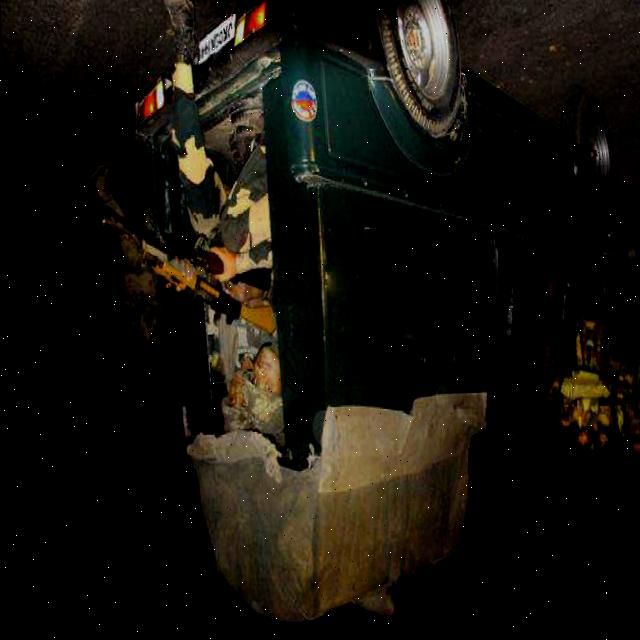plate: (186, 13, 239, 65)
